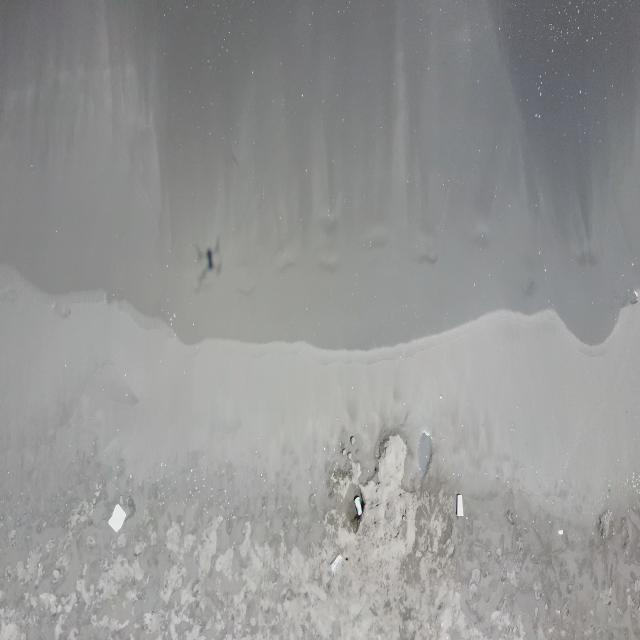take-away-containers: (108, 503, 126, 533)
takeaway-cup: (330, 553, 342, 572), (455, 493, 464, 518), (354, 496, 364, 516)
